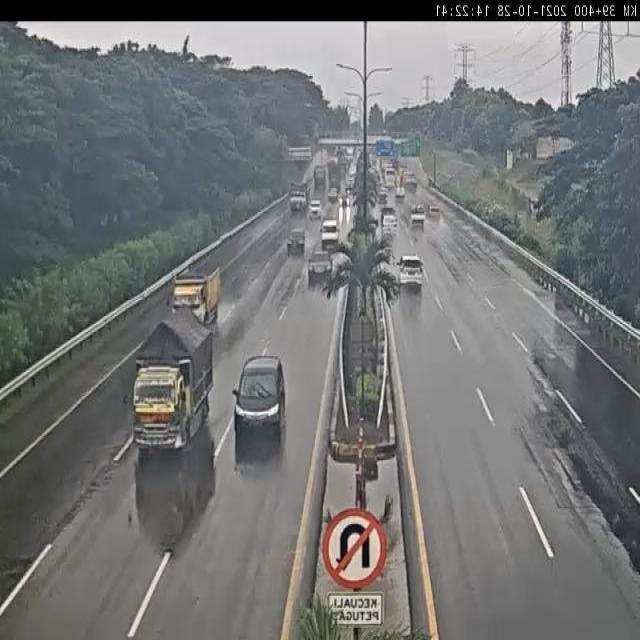Bus: (129, 317, 213, 456), (384, 169, 395, 187)
Car: (233, 354, 287, 449), (397, 254, 425, 291), (307, 249, 331, 286), (286, 229, 306, 256), (381, 210, 398, 240), (308, 199, 322, 219), (428, 205, 440, 224), (328, 187, 338, 203), (396, 186, 405, 199)
Truck: (168, 264, 220, 326), (288, 182, 308, 212), (410, 204, 426, 229)
Van: (321, 219, 338, 248)
